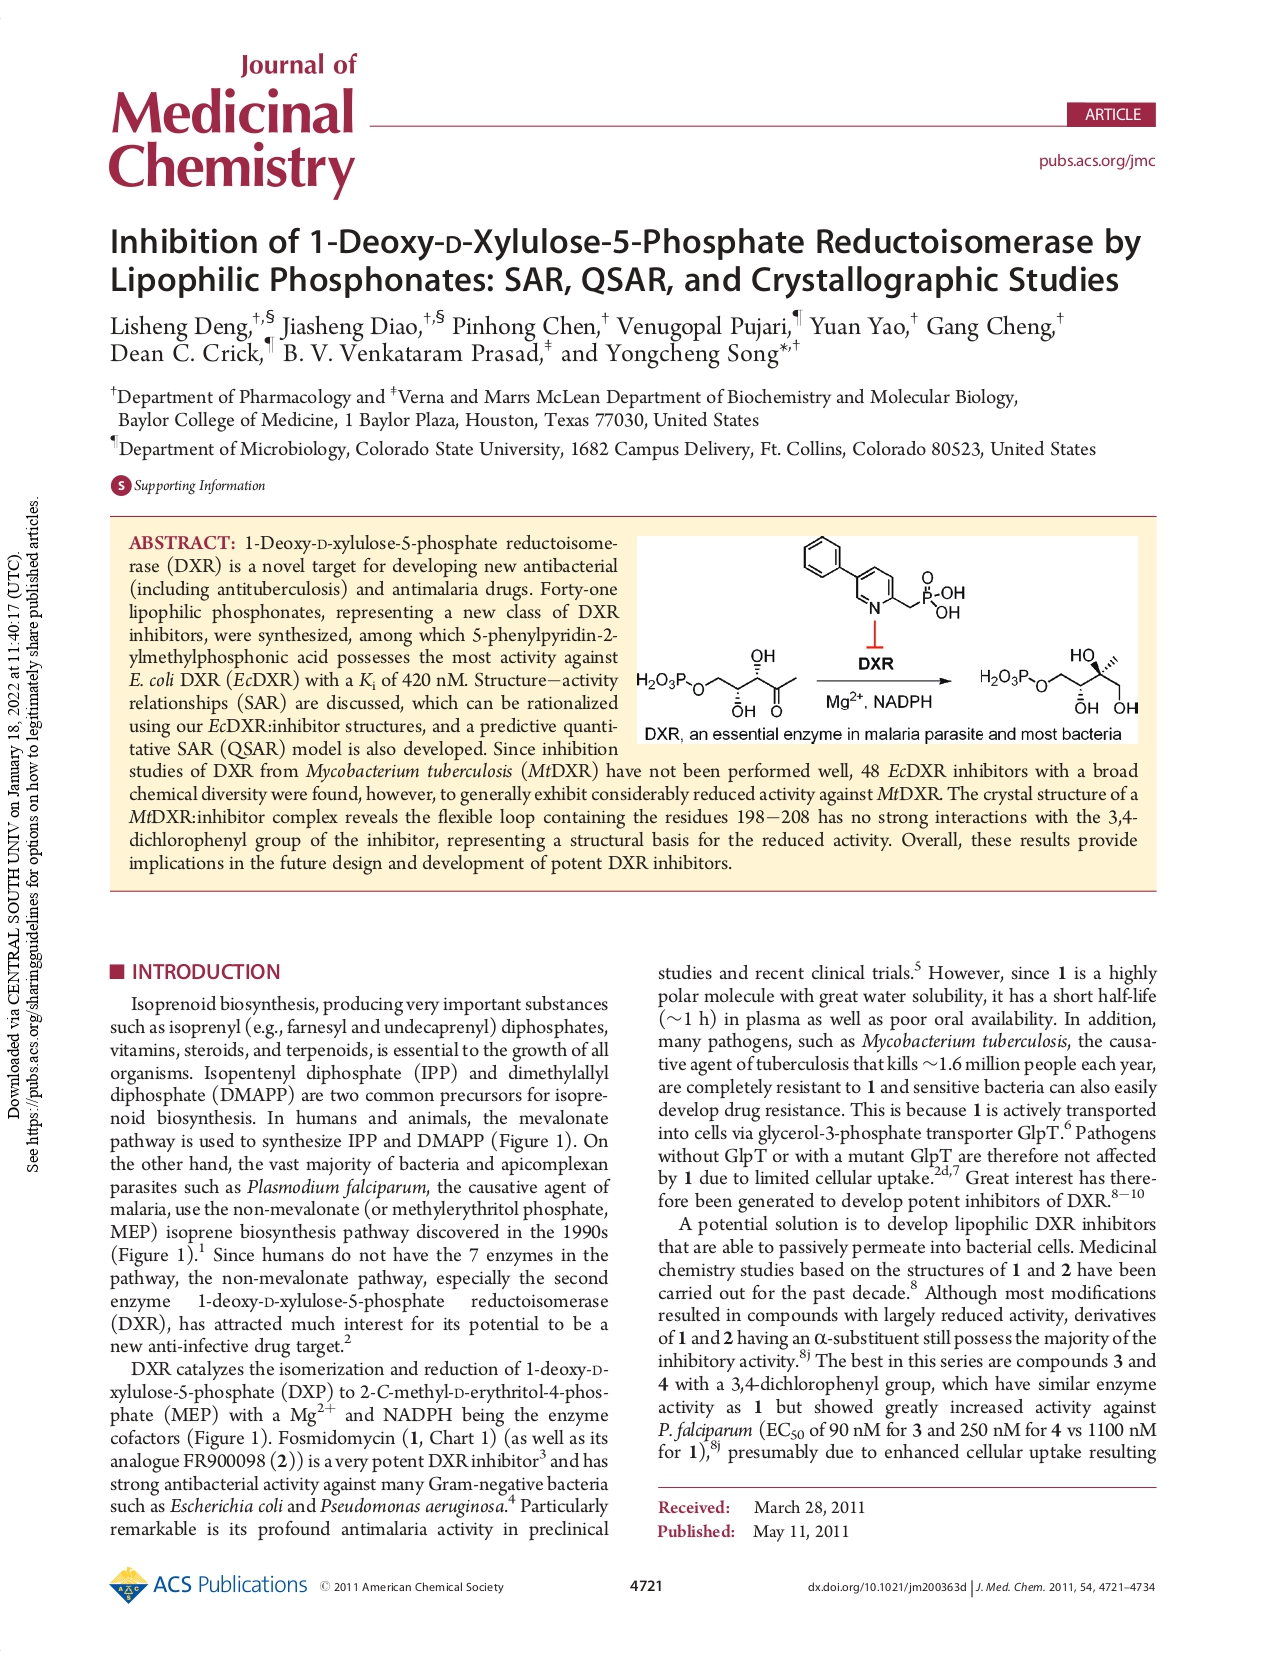exist_molecular: (801, 536, 968, 618), (636, 648, 799, 721), (977, 644, 1138, 717)
